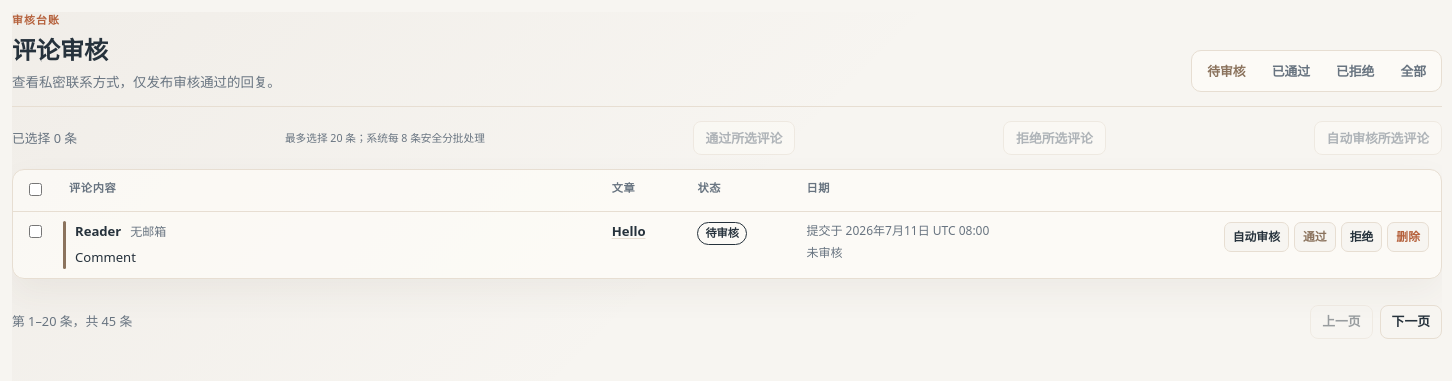
CommentModerationView › runs automatic moderation for one row and reports the safe summary
Click the button with test id "comment-auto-moderate-comment-1": {"x": 1256, "y": 237} top-left (1224, 222), bottom-right (1289, 252)
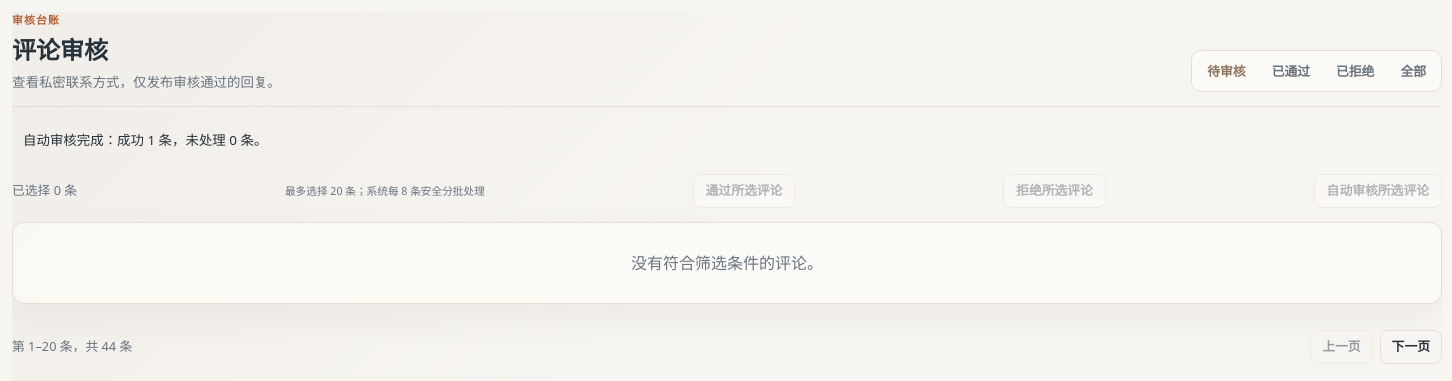
Check: the message with test id "comment-action-notice" shows "成功 1 条，未处理 0 条", box top-left (23, 132), bottom-right (267, 150)
